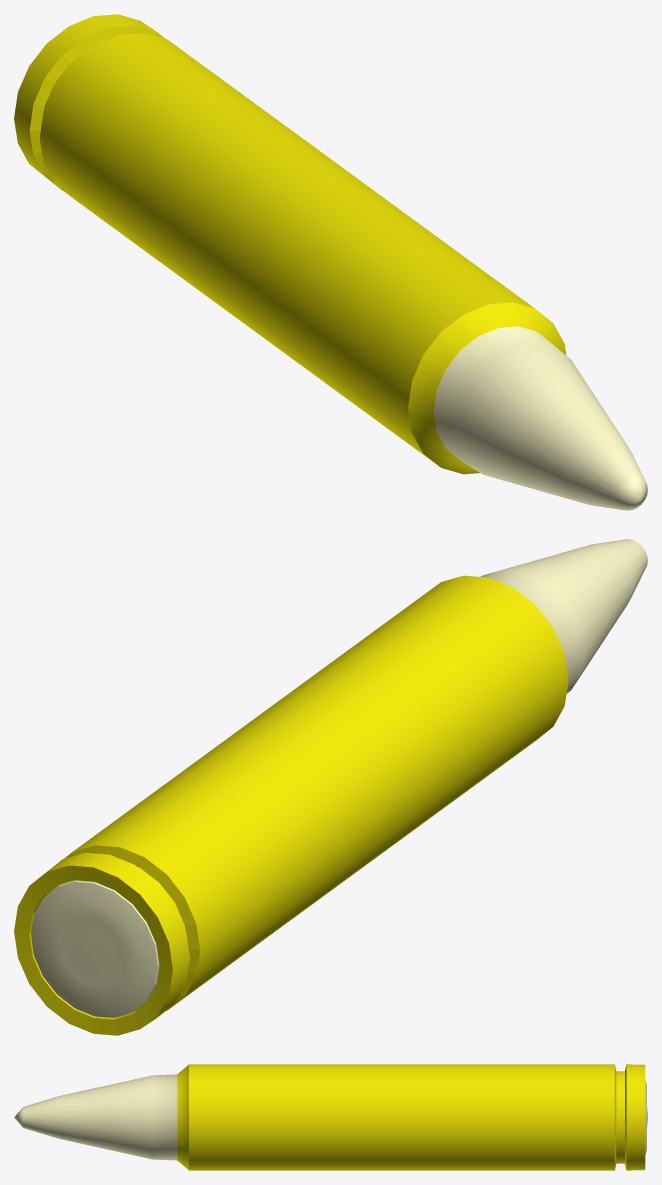
The model's file is KRUKRUTAMA.fbx.
3 views of the same model, one above another, from view 1: azimuth 30°, elevation 25°; view 2: azimuth 150°, elevation 25°; view 3: azimuth 270°, elevation 25° (orthographic). The views are drawn at different scales.
Parts seen in each view (by area): view 1: pCylinder1; view 2: pCylinder1; view 3: pCylinder1.
Part boxes in pixels (x1,y1,x2,y2): pCylinder1: [14, 14, 647, 510]; pCylinder1: [14, 539, 647, 1035]; pCylinder1: [14, 1064, 647, 1170].
Bounding box in the file's own units: 2.16 × 2.16 × 12.78.
